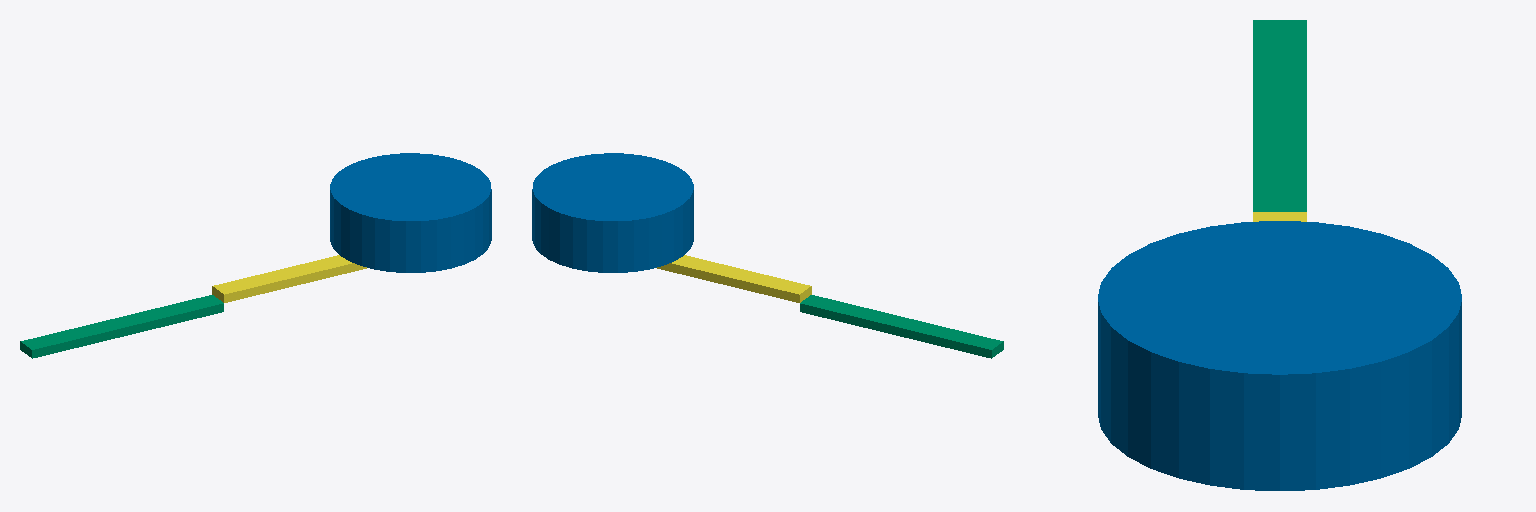
The robot description file, URDF, robot "agent":
<?xml version="1.0"?>

<!-- =================================================================================== -->
<!-- |    This document was autogenerated by xacro from robot.xacro                    | -->
<!-- |    EDITING THIS FILE BY HAND IS NOT RECOMMENDED                                 | -->
<!-- |    This file is created by Taesik Kim for reinformcement learning of Agent Robot| -->
<!-- |    Last revision : 2024. 08. 30, Version : 1.0.0                                | -->
<!-- =================================================================================== -->

<robot name="agent" self_collide="false" xmlns:xacro="http://www.ros.org/wiki/xacro">
  <material name="black">
    <color rgba="0.0 0.0 0.0 1.0"/>
  </material>
  <material name="blue">
    <color rgba="0.0 0.0 0.8 1.0"/>
  </material>
  <material name="green">
    <color rgba="0.0 0.8 0.0 1.0"/>
  </material>
  <material name="grey">
    <color rgba="0.2 0.2 0.2 1.0"/>
  </material>
  <material name="silver">
    <color rgba="0.913725490196 0.913725490196 0.847058823529 1.0"/>
  </material>
  <material name="orange">
    <color rgba="1.0 0.423529411765 0.0392156862745 1.0"/>
  </material>
  <material name="brown">
    <color rgba="0.870588235294 0.811764705882 0.764705882353 1.0"/>
  </material>
  <material name="red">
    <color rgba="0.8 0.0 0.0 1.0"/>
  </material>
  <material name="white">
    <color rgba="1.0 1.0 1.0 1.0"/>
  </material>
  <material name="cobaltblue">
    <color rgba="0 0.2784 0.6706 1.0"/>
  </material>

<link name="base">
    <visual>
      <origin rpy="3.14159 0 1.0472" xyz="0 0 -0.02"/>
      <geometry>
        <!--<cylinder length="0.325" radius="0.09"/>-->
        <mesh filename="agent_body.obj" scale="1 1 1"/>
      </geometry>
    </visual>
    <collision>
      <origin rpy="0 0 0" xyz="0 0 0"/>
      <geometry>
        <cylinder length="0.325" radius="0.09"/>
      </geometry>
    </collision>
    <inertial>
      <origin rpy="0 0 0" xyz="0 0 0"/>
      <mass value="9.18"/>
      <inertia ixx="0.0994" ixy="0" ixz="0" iyy="0.0994" iyz="0" izz="0.0372"/>
    </inertial>
</link>

<link name="gripper">
    <visual>
      <origin rpy="2.9671 0 0" xyz="0 0 -0.02"/>
      <geometry>
        <mesh filename="gripper_set.obj" scale="1 1 1"/>
        <!--<cylinder length="0.325" radius="0.015"/>-->
      </geometry>
    </visual>
    <collision>
      <origin rpy="-0.1745 0 0" xyz="0 0 0"/>
      <geometry>
        <cylinder length="0.325" radius="0.015"/>
      </geometry>
    </collision>
    <inertial>
      <origin rpy="0 0 0" xyz="0 0 0"/>
      <mass value="0.3"/>
      <inertia ixx="0.00266" ixy="0" ixz="0" iyy="0.00266" iyz="0" izz="0.00003375"/>
    </inertial>
  </link>
  
<joint name="base_to_gripper" type="fixed">
    <origin rpy="0 0 0" xyz="0 0.0881 -0.185"/>
    <parent link="base"/>
    <child link="gripper"/>
</joint>



<!-- /////////////////////////// Active Buoyancy Position Controller //////////////////////////////-->
    <!-- Joint1 --> 
    <joint name="joint1" type="revolute">
        <parent link="base"/>
        <child link="link1"/>
        <origin xyz="0 0 0.1625" rpy="0 0 0"/>
        <axis xyz="0 0 1"/>
        <dynamics damping="0.7" friction="1"/>
        <limit effort="200" lower="-6.2831853" upper="6.2831853" velocity="30"/>
    </joint>
        
    <!-- Link1 -->
    <link name="link1">
        <visual>
            <origin xyz="0.116 0 0.01" rpy="0 0 0"/>
            <geometry>
                <box size="0.233 0.025 0.01"/>
                </geometry>
        </visual>     
        <collision>
            <origin xyz="0.116 0 0.01" rpy="0 0 0"/>
            <geometry>
                <box size="0.233 0.025 0.01"/>
            </geometry>
        </collision>
        <inertial>
            <origin xyz="0.116 0 0.01" rpy="0 0 0"/>
            <mass value="0.1"/>
            <inertia
                ixx="0.00000604" ixy="0.0" ixz="0.0"
                iyy="0.00045324" iyz="0.0"
                izz="0.00045762"/>
            </inertial>
    </link>
    
    <!-- Joint2 --> 
    <joint name="joint2" type="revolute">
        <parent link="link1"/>
        <child link="link2"/>
        <origin xyz="0.233 0 0.01" rpy="0 0 0"/>
        <axis xyz="0 0 1"/>
        <dynamics damping="0.7" friction="1"/>
        <limit effort="200" lower="-6.2831853" upper="6.2831853" velocity="30"/>
    </joint>
        
    <!-- Link2 -->
    <link name="link2">
        <visual>
            <origin xyz="0.116 0 0.01" rpy="0 0 0"/>
            <geometry>
                <box size="0.233 0.025 0.01"/>
            </geometry>
        </visual> 
    
        <collision>
            <origin xyz="0.116 0 0.01" rpy="0 0 0"/>
            <geometry>
                <box size="0.233 0.025 0.01"/>
            </geometry>
        </collision>

        <inertial>
            <origin xyz="0.116 0 0.01" rpy="0 0 0"/>
            <mass value="0.1"/>
            <inertia
                ixx="0.00000604" ixy="0.0" ixz="0.0"
                iyy="0.00045324" iyz="0.0"
                izz="0.00045762"/>
            </inertial>
    </link>

        <!-- Joint3 (buoy fixer) -->  
    <joint name="buoy_fixer" type="fixed">
        <parent link="link2"/>
        <child link="link3"/>
        <origin xyz="0.233 0 0.01" rpy="0 0 0"/>
    </joint>

    <!-- Link3 (buoy) -->
    <link name="link3">
        <visual>
            <origin xyz="0 0 0.04" rpy="0 0 0"/>
            <geometry>
                <!-- <box size="0.15 0.15 0.06"/> -->
                <cylinder length = "0.06" radius = "0.085"/>
            </geometry>
        </visual> 
    
        <collision>
            <origin xyz="0 0 0.04" rpy="0 0 0"/>
            <geometry>
                <cylinder length = "0.06" radius = "0.085"/>                
                <!-- <box size="0.15 0.15 0.06"/> -->
            </geometry>
        </collision>

        <inertial>
        <origin xyz="0 0 0.04" rpy="0 0 0"/>
        <mass value="0.01"/>
        <inertia
        ixx="0.00001" ixy="0.0" ixz="0.0"
        iyy="0.00001" iyz="0.0"
        izz="0.00001"/>
        </inertial>
    </link>
</robot>

--- What the picture shows (computed from the rendered views, not written in the file) ---
The picture shows the robot from 3 angles, left to right: view 1: azimuth 30°, elevation 25°; view 2: azimuth 150°, elevation 25°; view 3: azimuth 270°, elevation 25°; orthographic projection.
Model agent with 5 links and 4 joints (2 revolute, 2 fixed), rooted at base, posed every joint at zero.
Visible links, largest first — view 1: link3, link1, link2; view 2: link3, link1, link2; view 3: link3, link1.
Boxes of the visible links, x1,y1,x2,y2 form: link3: (330,153,491,272); link1: (20,295,223,358); link2: (212,255,366,302); link3: (532,153,693,272); link1: (800,295,1003,358); link2: (657,255,811,302); link3: (1098,221,1461,490); link1: (1253,20,1306,211).
Size in the robot's own frame: 0.5515 by 0.17 by 0.085 metres.
0 mesh visuals loaded from 2 distinct referenced files (none loaded); not drawn: 2 (reference not matched to a file when rendering).
